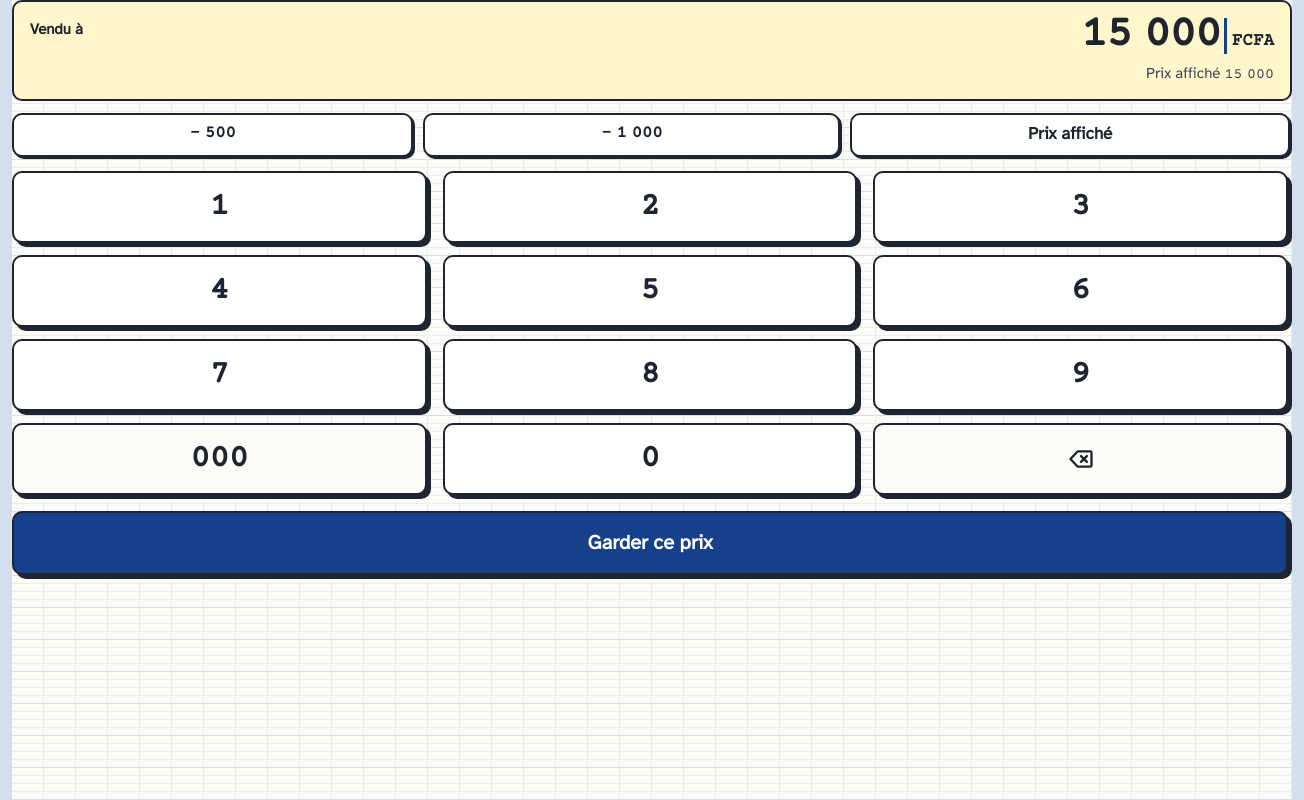
Test: NumPad › lowers the displayed price and spells out the discount
What coordinates should you click on to do the following:
click the button named "Baisser de 1 000 FCFA"
I would click on:
 (632, 134)
Its box is [423,112,840,156].
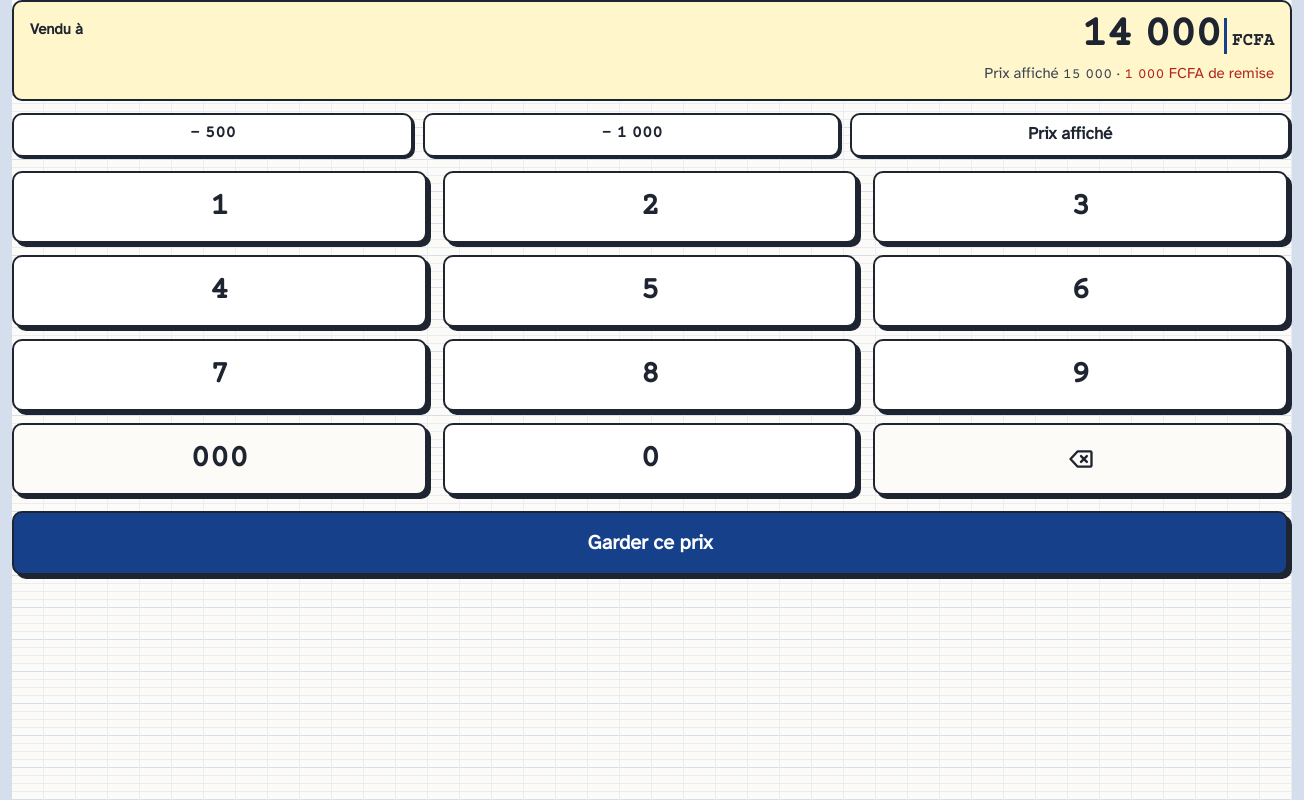
What coordinates should you click on to do the following:
click the button named "Baisser de 500 FCFA"
I would click on:
 (213, 134)
Its box is [12,112,413,156].
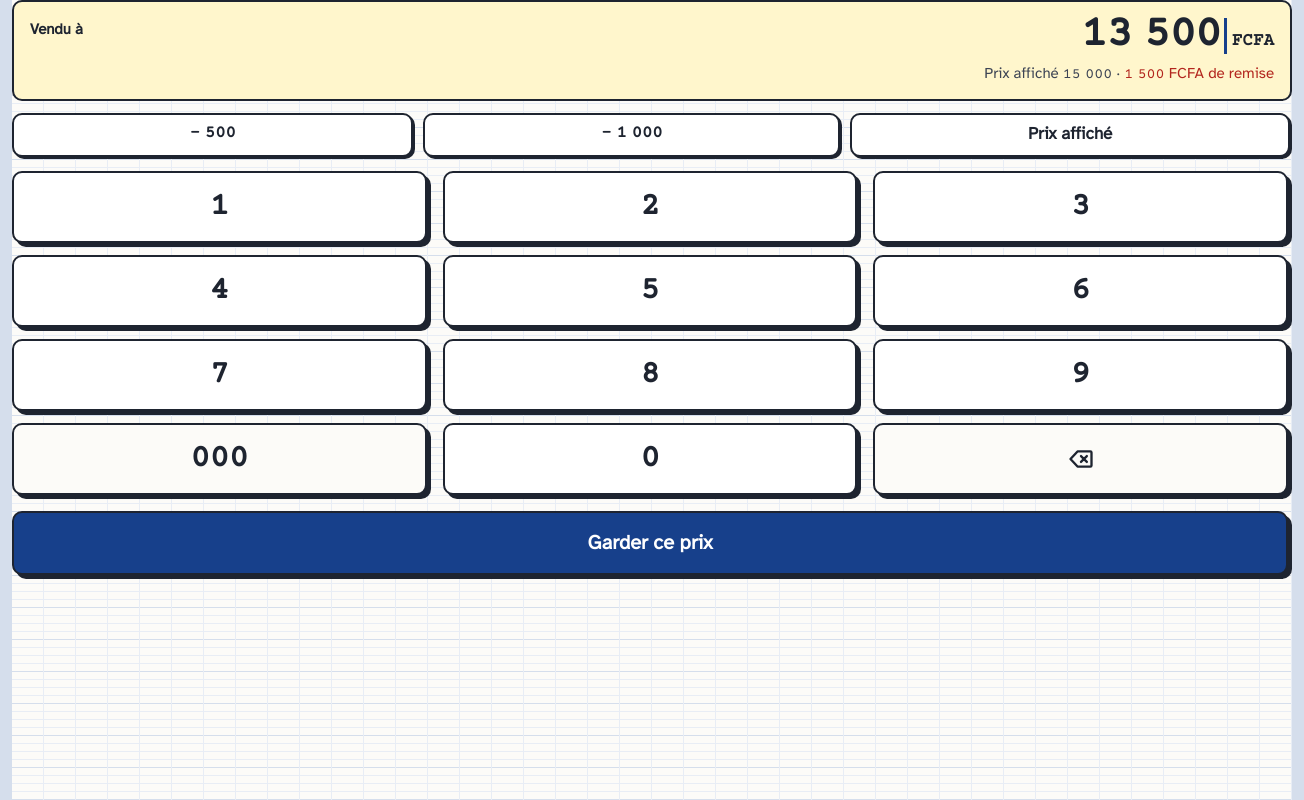
What coordinates should you click on to do the following:
click the button "Prix affiché"
I would click on:
 (1070, 134)
Its box is [850,112,1290,156].
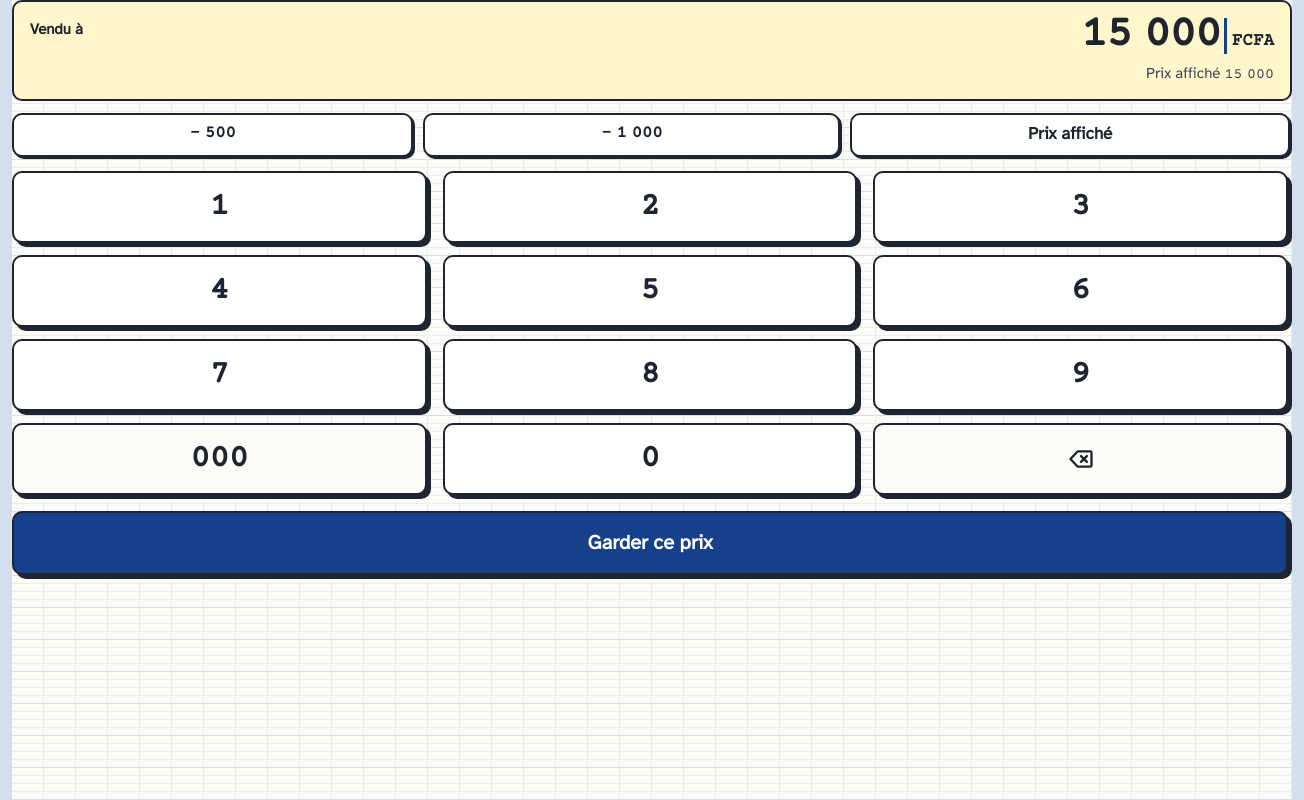
Result: the message "1 500 FCFA de remise" no longer shows "remise"
